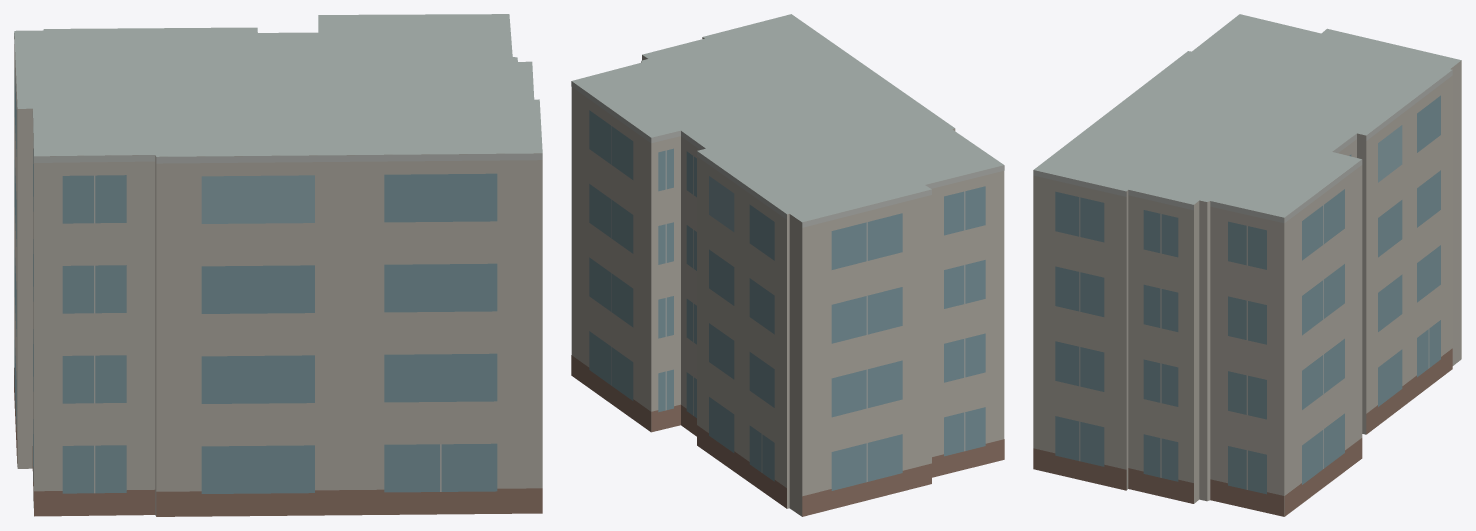
Rendered from survey-upis-33012689.glb.
3 renders of one model, left to right at view 1: azimuth 30°, elevation 25°; view 2: azimuth 150°, elevation 25°; view 3: azimuth 270°, elevation 25°, orthographic. The views are drawn at different scales.
Visible parts, largest first — view 1: survey-upis-33012689.tmp; view 2: survey-upis-33012689.tmp; view 3: survey-upis-33012689.tmp.
Boxes of the visible parts, x1=… form: survey-upis-33012689.tmp: x1=14, y1=14, x2=542, y2=516; survey-upis-33012689.tmp: x1=571, y1=14, x2=1004, y2=516; survey-upis-33012689.tmp: x1=1033, y1=14, x2=1461, y2=516.
Size of the model in its own units: 19.07 by 13.05 by 16.94.
